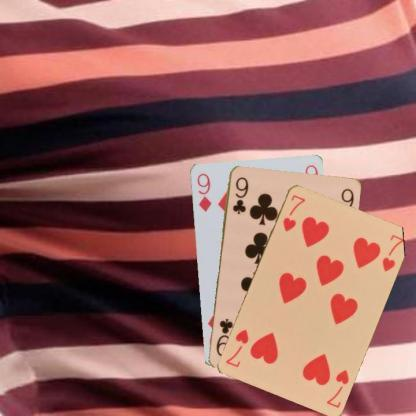7h: (324, 366, 350, 409), (280, 192, 307, 233)
9c: (230, 174, 250, 216)
9d: (194, 170, 212, 212)
